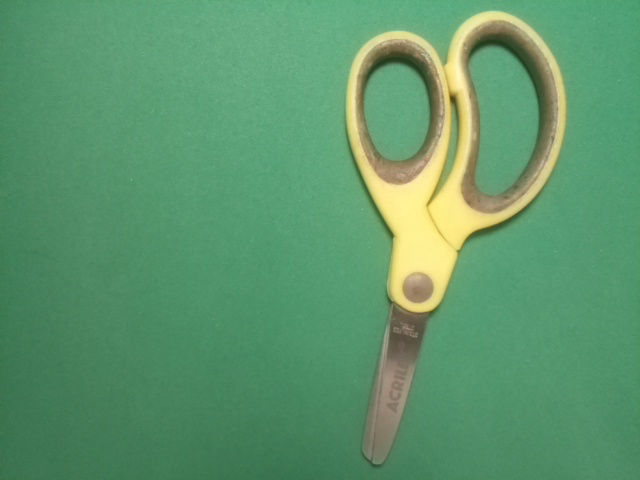Tesoura: (344, 6, 567, 469)
